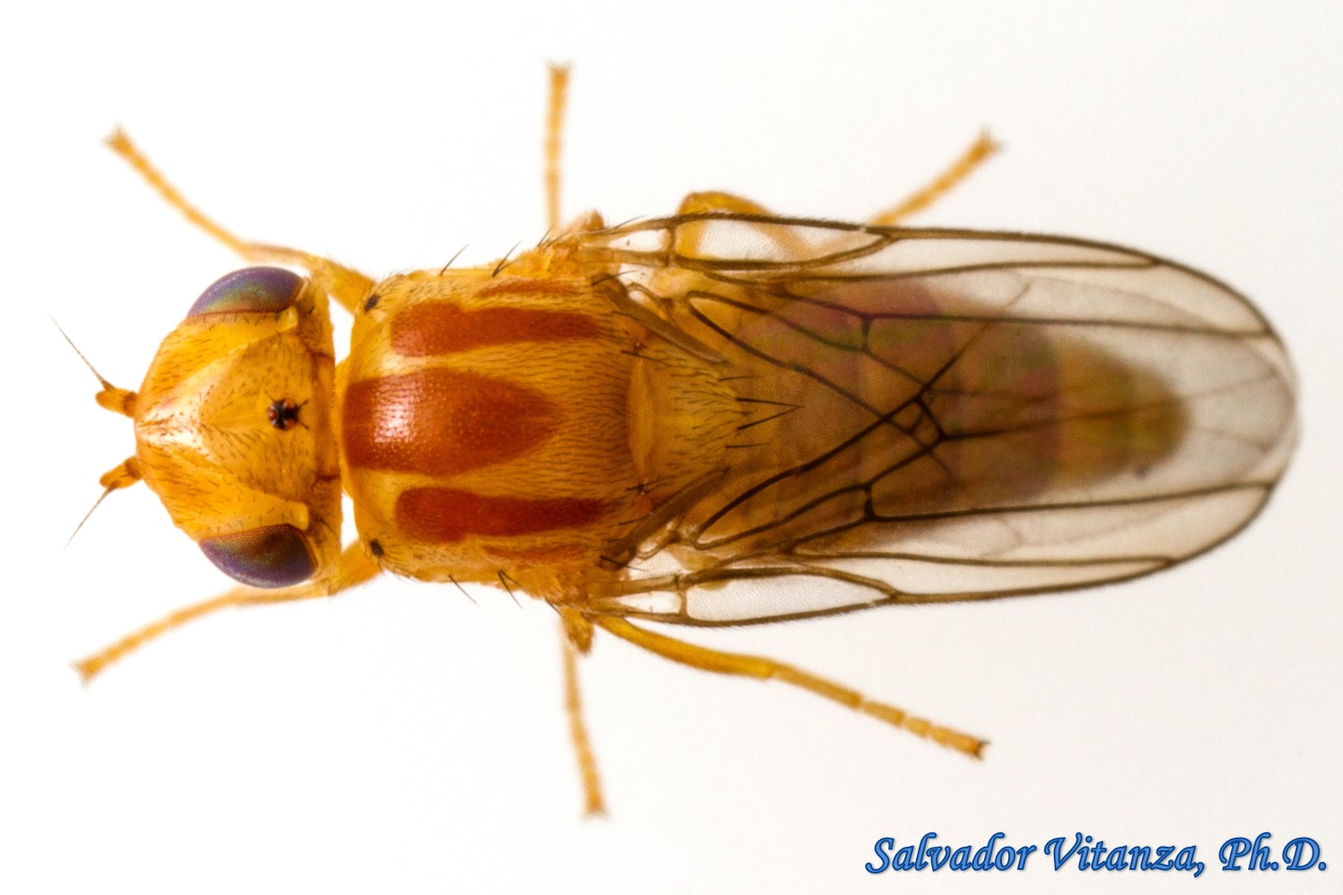Chloropidae: (69, 55, 1306, 816)
